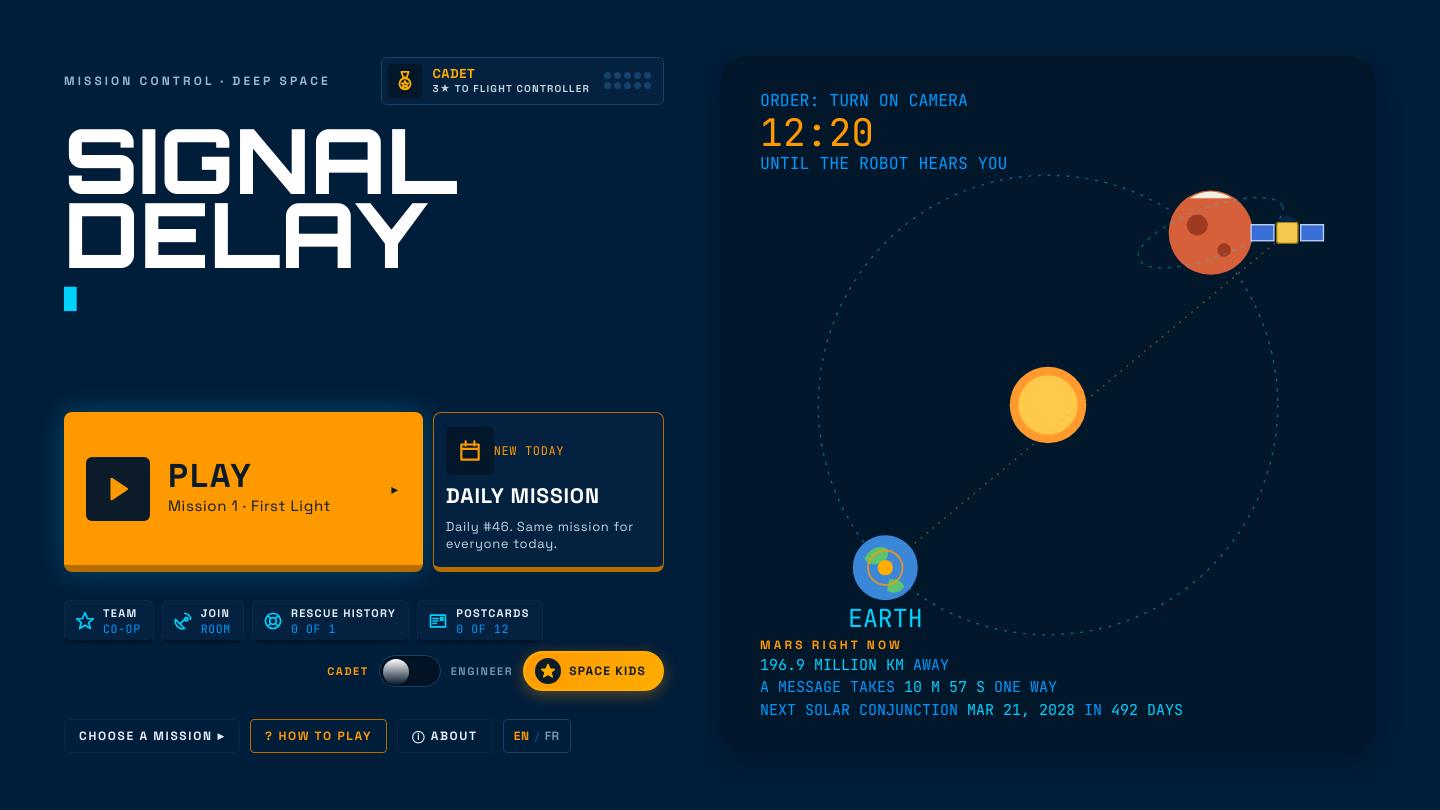
the host screen (T6a) › with no relay set up (no key; component tests blank the project in setup.ts) the room says so
The image size is (1440, 810).
Click the button "TEAM CO-OP" at (109,621), box [64,600,154,643]
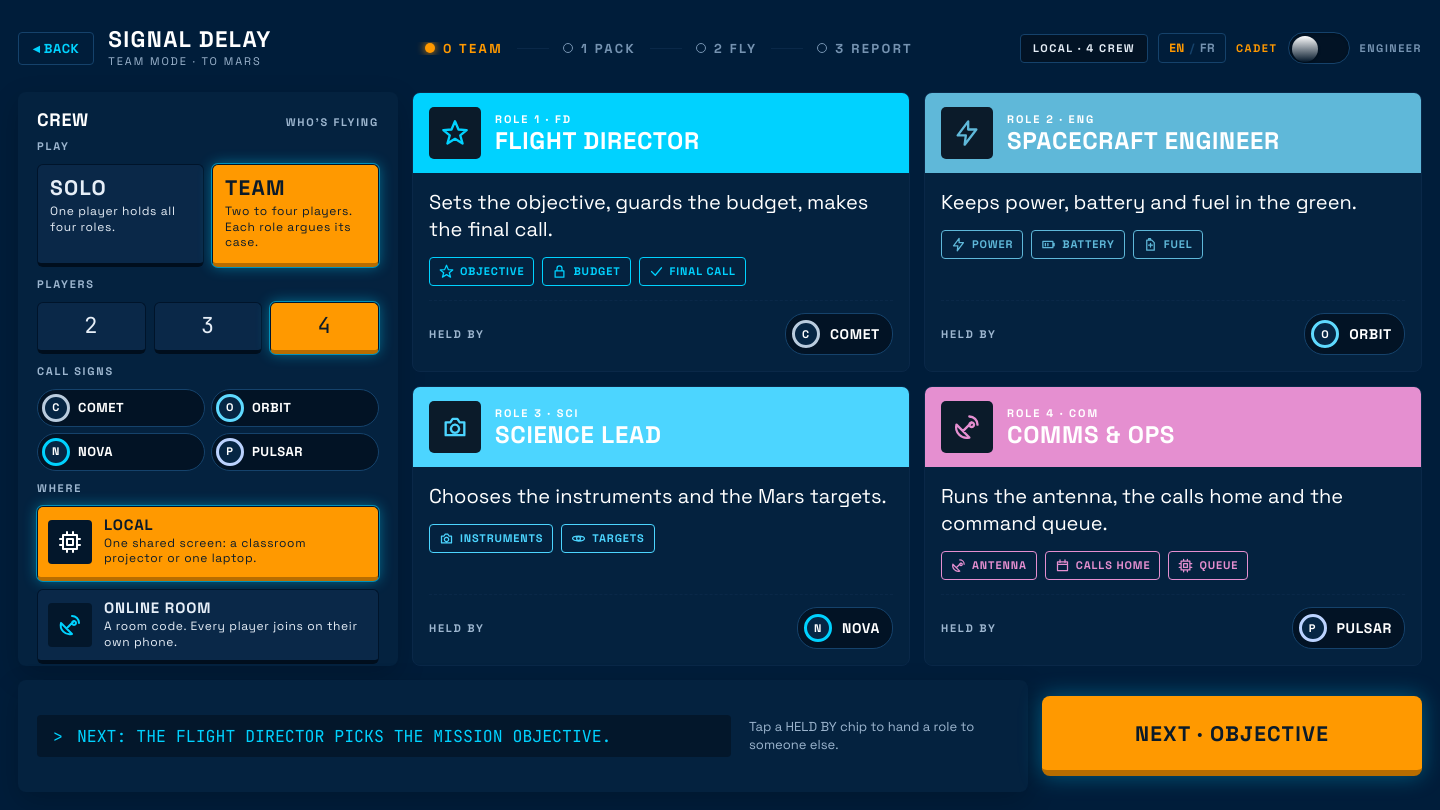
Click the button that starts with "ONLINE ROOM" at (208,627), box [37,589,379,664]
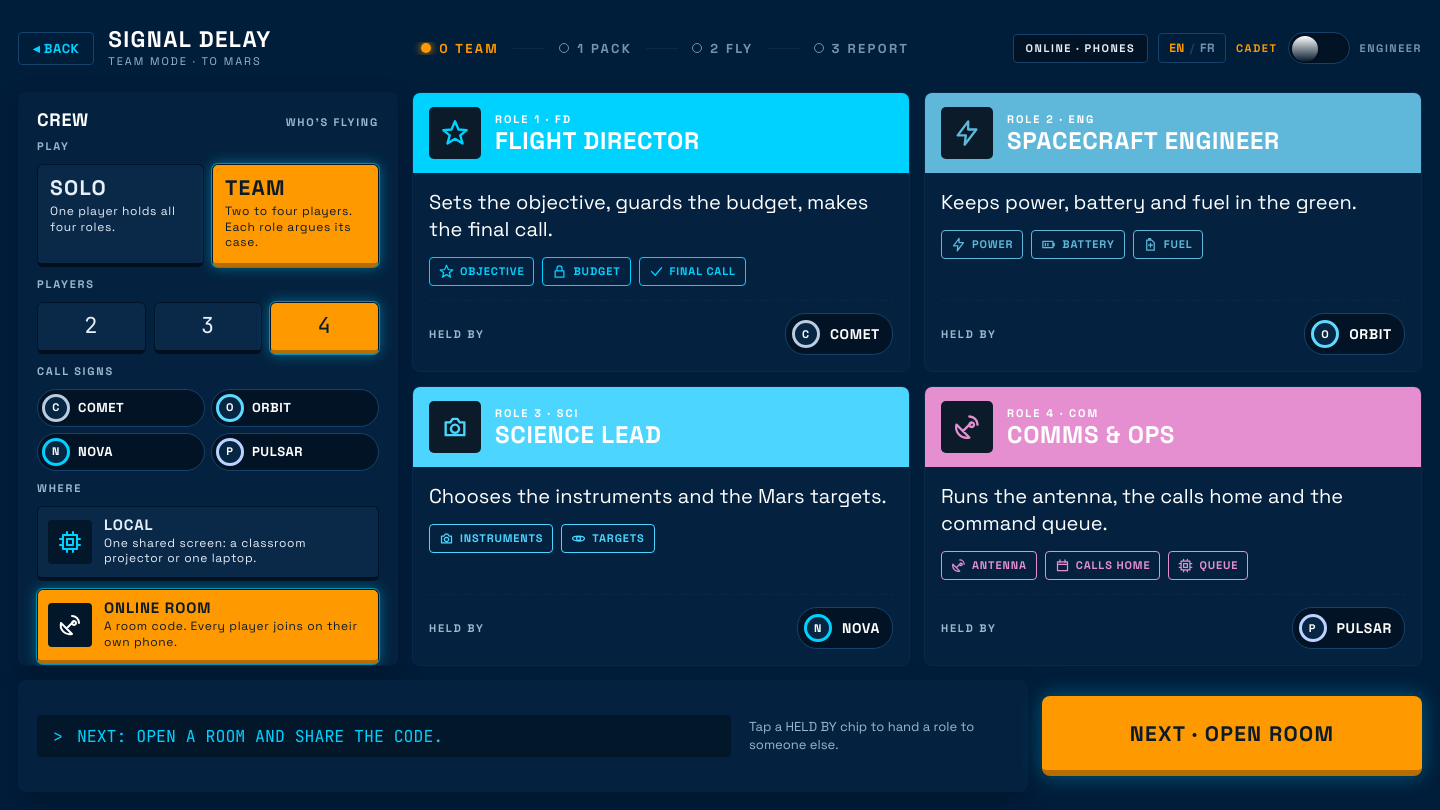
Click the button "NEXT · OPEN ROOM" at (1232,736), box [1042,696,1422,776]
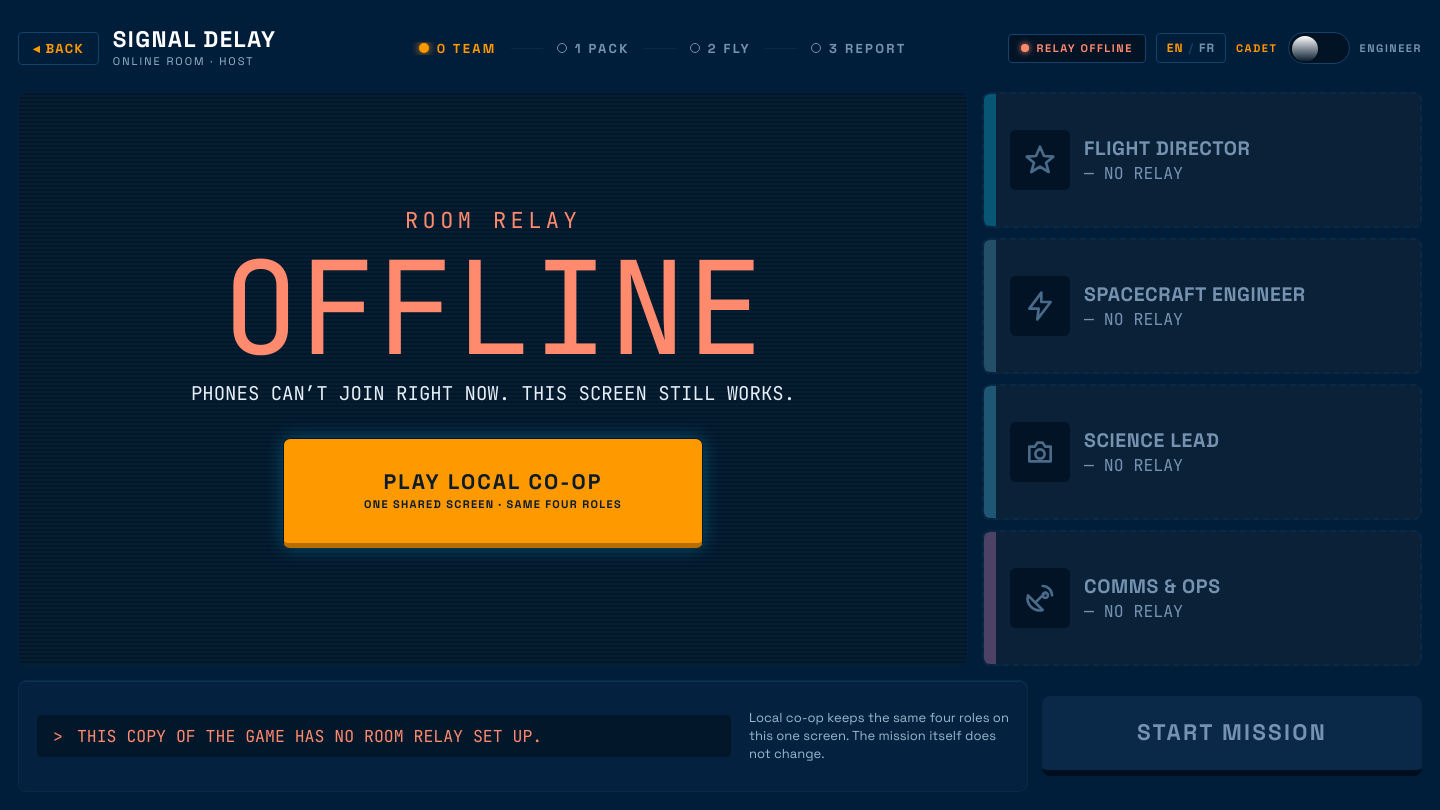
Check: the text "THIS COPY OF THE GAME HAS NO ROOM RELAY SET UP." is shown, box [77,727,542,745]
